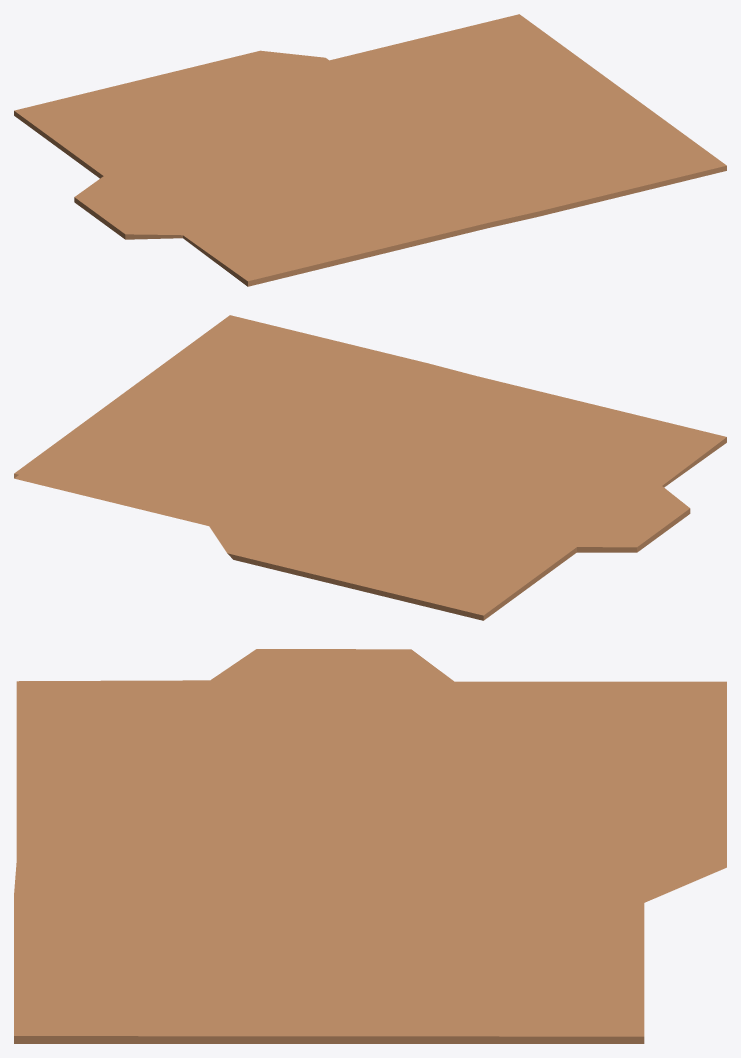
Rendered from Witchhouse.floor.fbx.
The picture shows the model from 3 angles, top to bottom: view 1: azimuth 30°, elevation 25°; view 2: azimuth 150°, elevation 25°; view 3: azimuth 270°, elevation 25°; orthographic projection. The views are drawn at different scales.
Parts seen in each view (by area): view 1: floor; view 2: floor; view 3: floor.
Part boxes in pixels (x1=…): floor: x1=14, y1=14, x2=726, y2=286; floor: x1=14, y1=315, x2=726, y2=620; floor: x1=14, y1=649, x2=726, y2=1043.
Bounding box in the file's own units: 23.31 × 0.2342 × 18.17.
